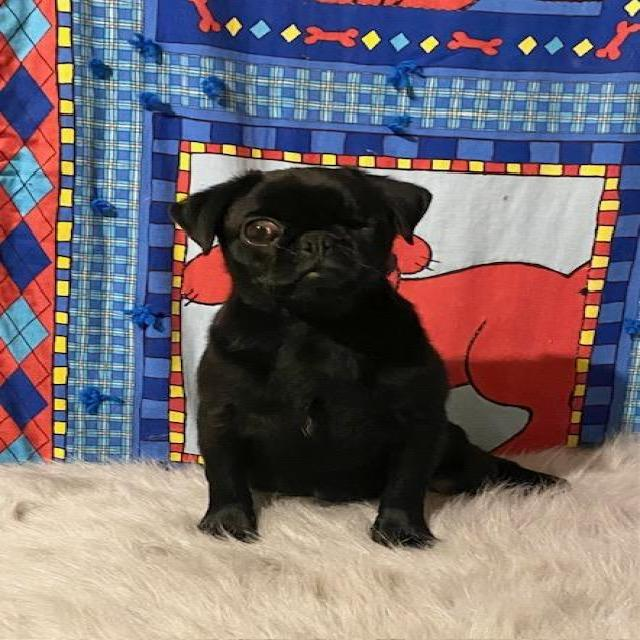pug_dog: (164, 152, 442, 328)
